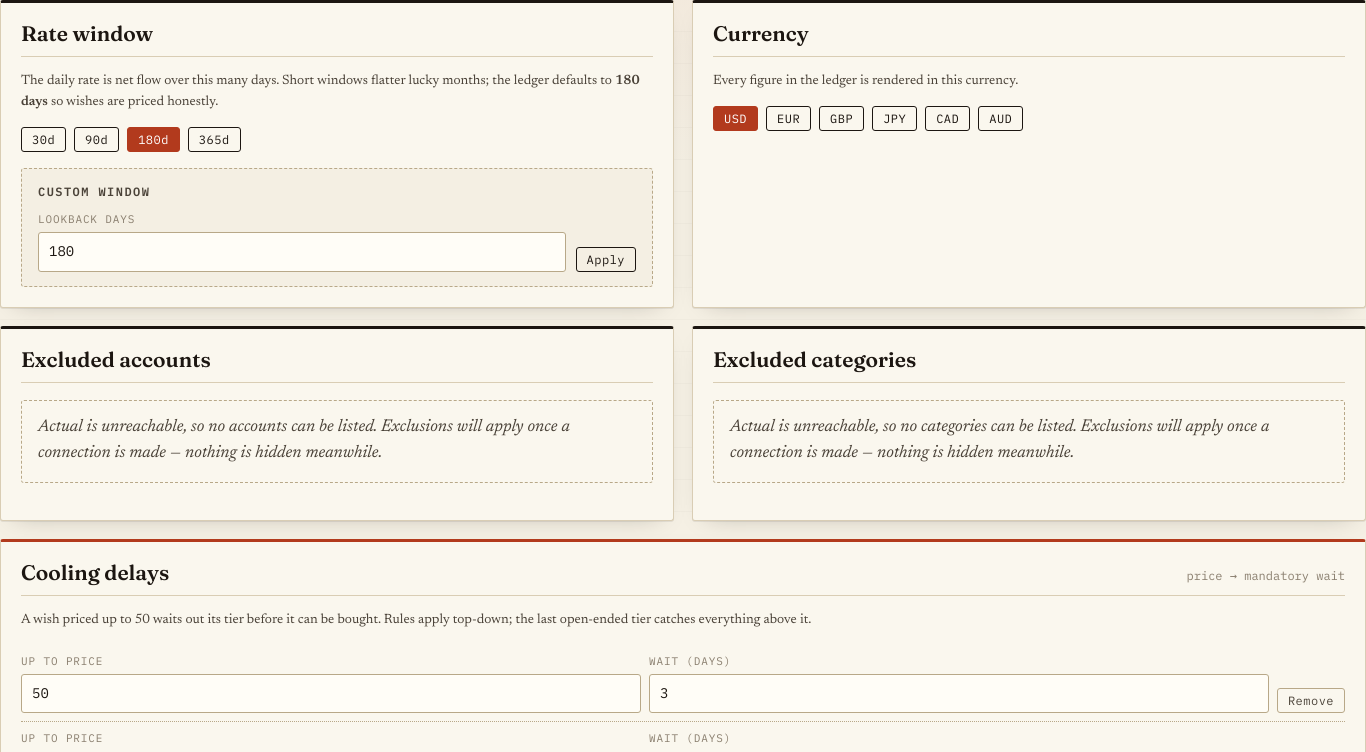
all views smoke › settings lookback save PUTs a partial and confirms
Click the button "90d".
click(97, 139)  # box [74,126,119,152]
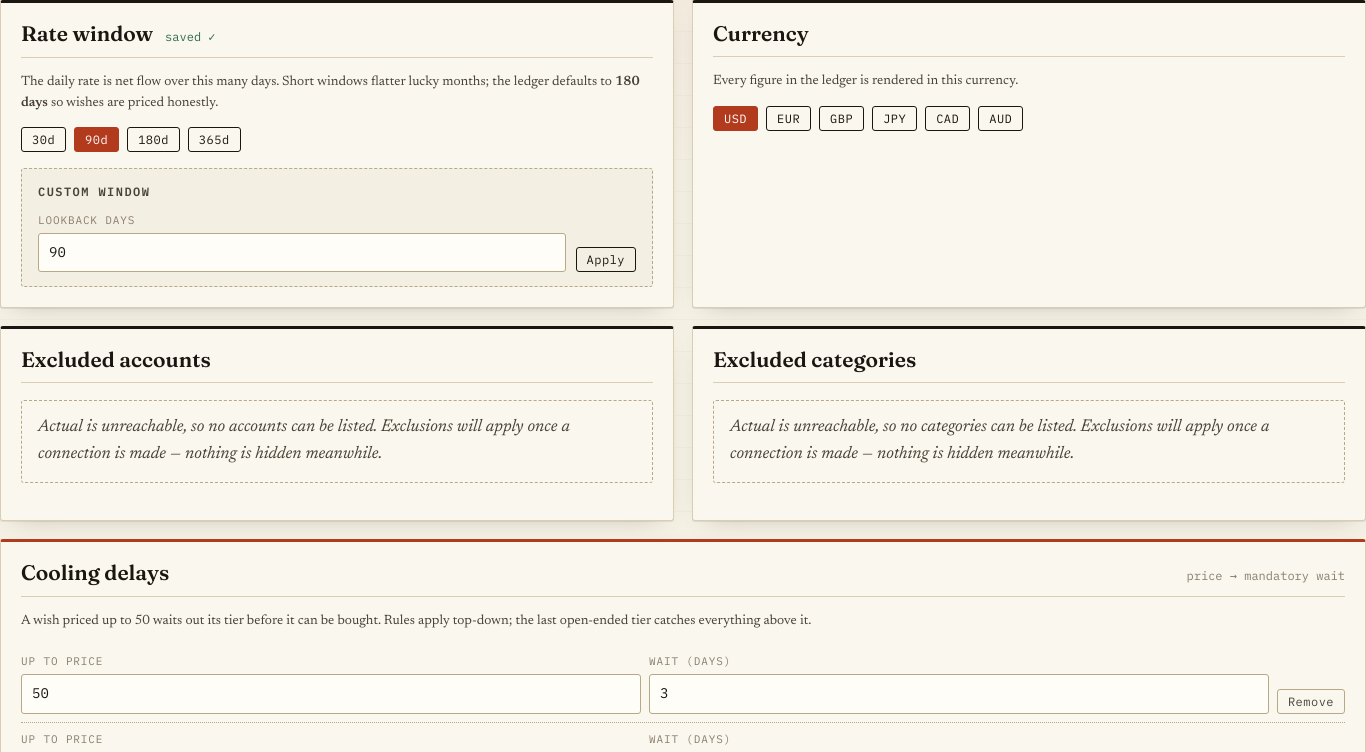
Now the text "saved ✓" is shown, box [165,28,216,47]
